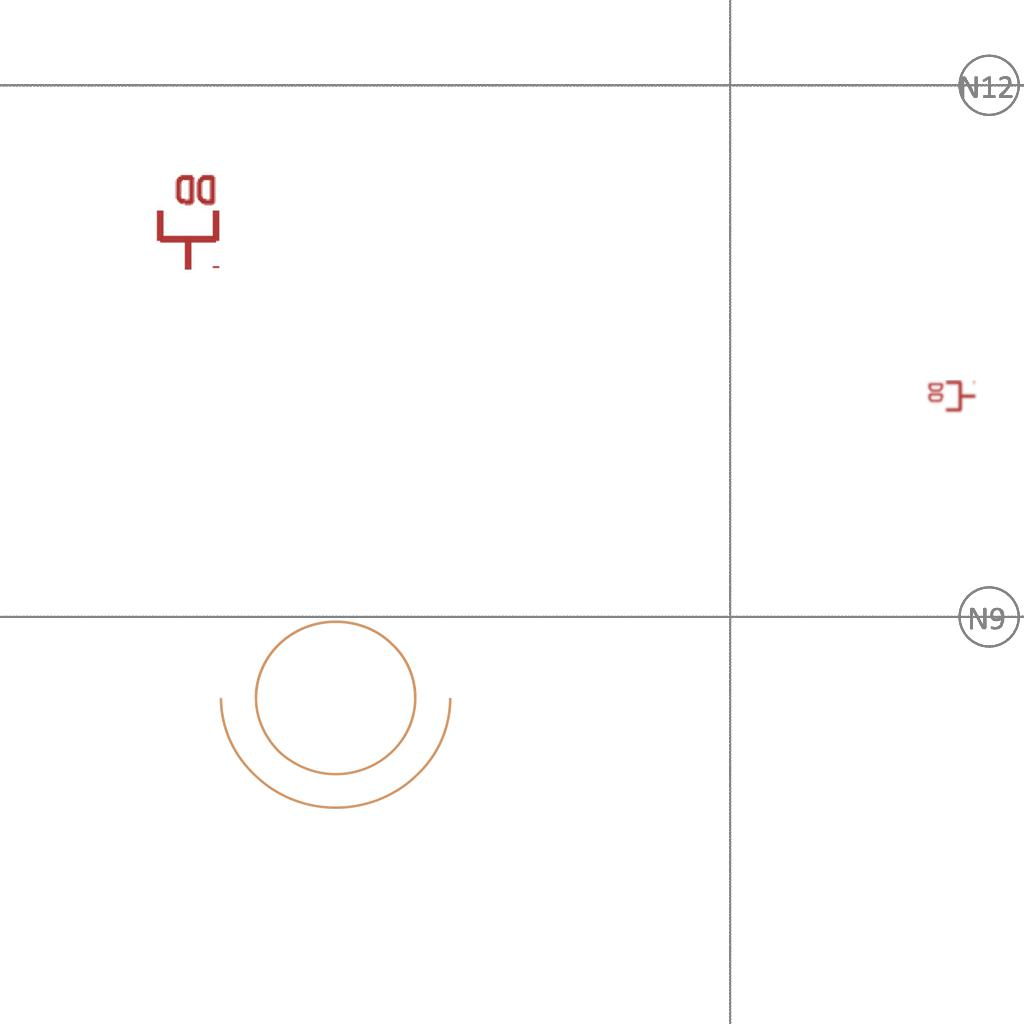Datenanschluss_zweifach: (152, 170, 221, 273), (926, 380, 977, 414)
Scheinwerfer_fuer_Alarmbeleuchtung: (210, 595, 474, 820)
